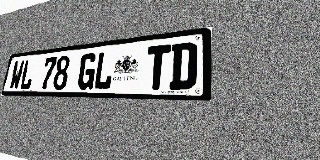7: (39, 57, 57, 90)
8: (52, 55, 71, 90)
D: (169, 41, 198, 89)
G: (76, 52, 98, 90)
L: (93, 50, 115, 90), (19, 59, 36, 90)
T: (144, 44, 171, 89)
W: (9, 60, 25, 90)
